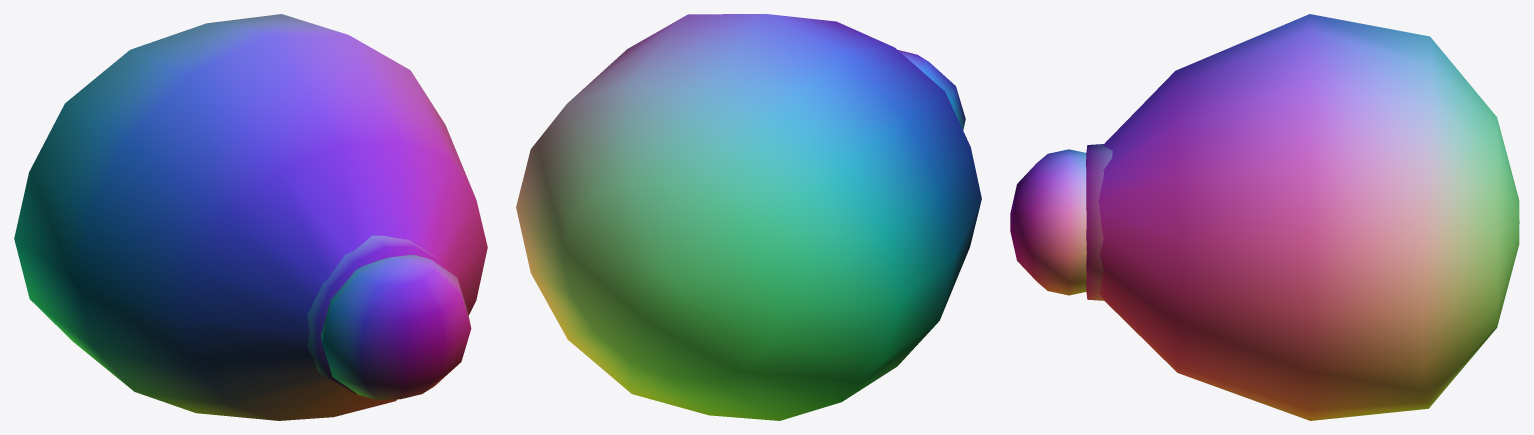
The model's file is SM_NPCKit_Prop_Pouch.fbx.
3 renders of one model, left to right at view 1: azimuth 30°, elevation 25°; view 2: azimuth 150°, elevation 25°; view 3: azimuth 270°, elevation 25°, orthographic. The views are drawn at different scales.
Visible parts, largest first — view 1: SM_NPCKit_Prop_Pouch; view 2: SM_NPCKit_Prop_Pouch; view 3: SM_NPCKit_Prop_Pouch.
Boxes of the visible parts, <box> form: SM_NPCKit_Prop_Pouch: <box>14,14,487,420</box>; SM_NPCKit_Prop_Pouch: <box>516,14,981,420</box>; SM_NPCKit_Prop_Pouch: <box>1010,14,1519,420</box>.
Size of the model in its own units: 0.2498 by 0.2292 by 0.2956.
